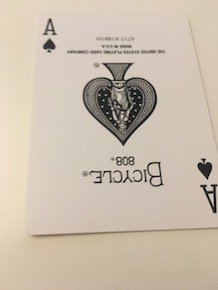AceOfSpades: (21, 6, 218, 238)
